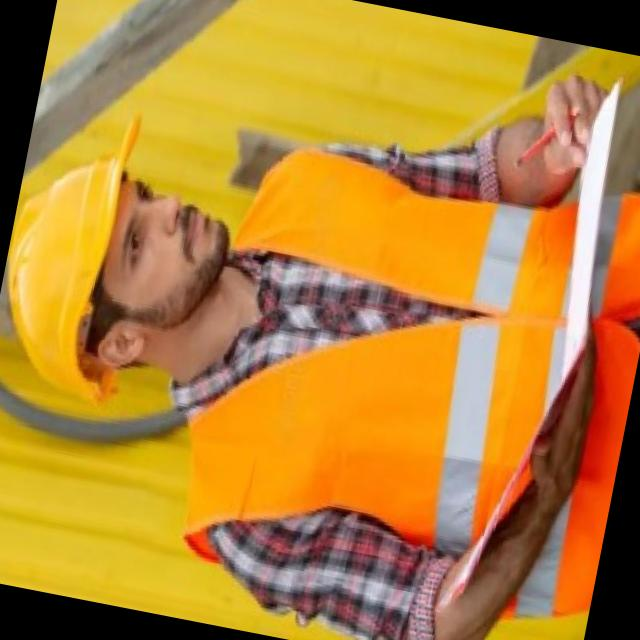not-gloved: (505, 349, 613, 537), (514, 50, 610, 192)
